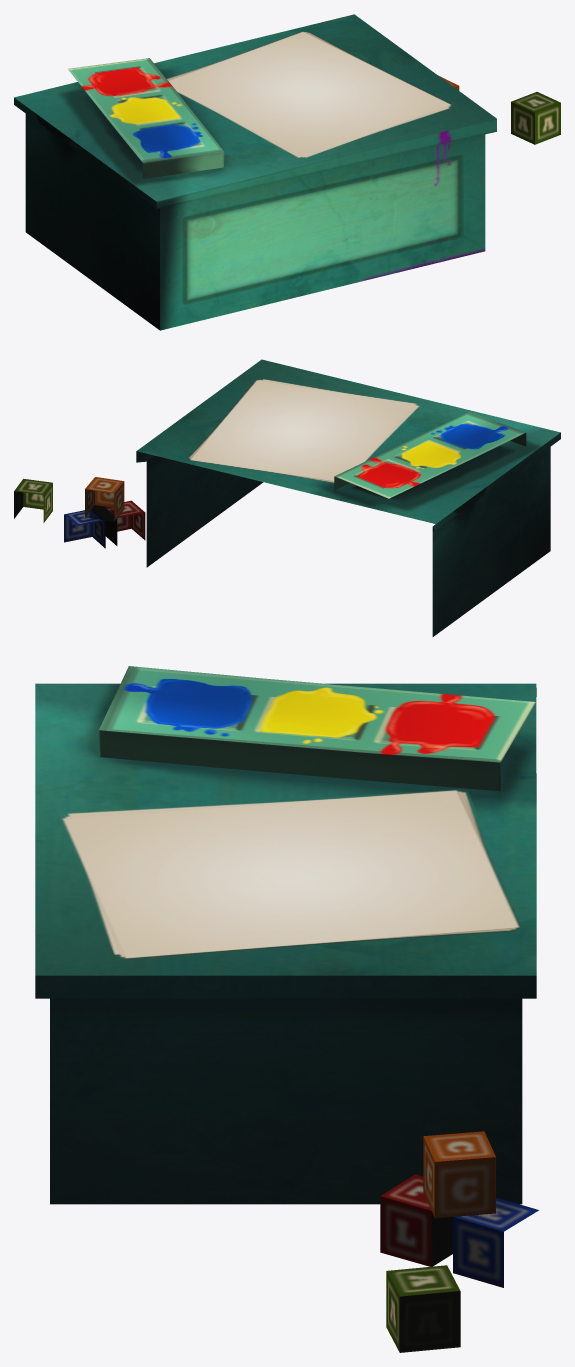
The model's file is lounge_toybox.dae.
3 renders of one model, top to bottom at view 1: azimuth 30°, elevation 25°; view 2: azimuth 150°, elevation 25°; view 3: azimuth 270°, elevation 25°, orthographic. The views are drawn at different scales.
Visible parts, largest first — view 1: ToyBox, PaintPot1, Block2; view 2: ToyBox, PaintPot1, Blocks1, Block2; view 3: ToyBox, PaintPot1, Blocks1, Block2.
Boxes of the visible parts, x1=… form: ToyBox: x1=14, y1=14, x2=496, y2=330; PaintPot1: x1=68, y1=58, x2=224, y2=178; Block2: x1=511, y1=92, x2=560, y2=144; ToyBox: x1=136, y1=359, x2=560, y2=636; PaintPot1: x1=334, y1=412, x2=526, y2=498; Blocks1: x1=64, y1=477, x2=145, y2=548; Block2: x1=14, y1=478, x2=52, y2=522; ToyBox: x1=35, y1=683, x2=536, y2=1204; PaintPot1: x1=99, y1=666, x2=535, y2=791; Blocks1: x1=380, y1=1131, x2=538, y2=1287; Block2: x1=386, y1=1265, x2=460, y2=1352.
Size of the model in its own units: 9.47 by 2.67 by 4.63.
Materials: 5 (5 with a texture image).
